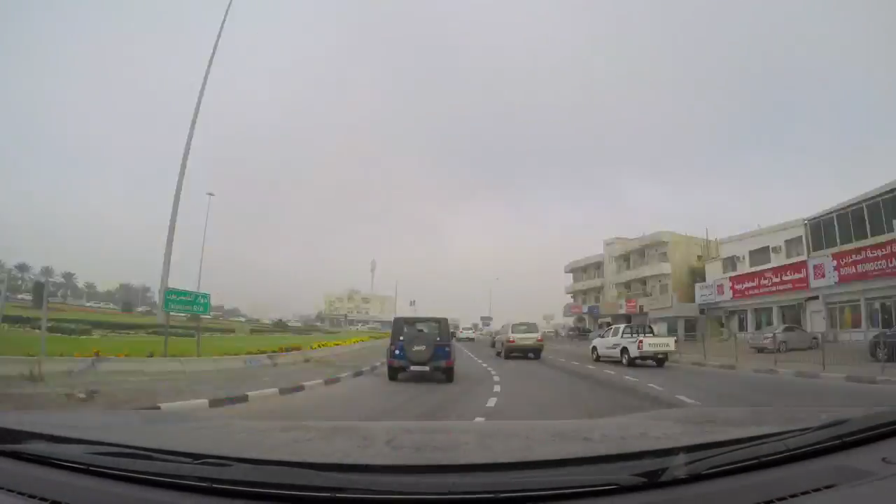car: (385, 314, 456, 385), (588, 322, 677, 368), (746, 322, 821, 353), (492, 320, 544, 360), (868, 324, 896, 362), (454, 325, 476, 341), (99, 301, 118, 311), (17, 292, 37, 301), (84, 300, 103, 309), (134, 305, 152, 313)
